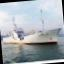fishing boat: (0, 6, 63, 50)
